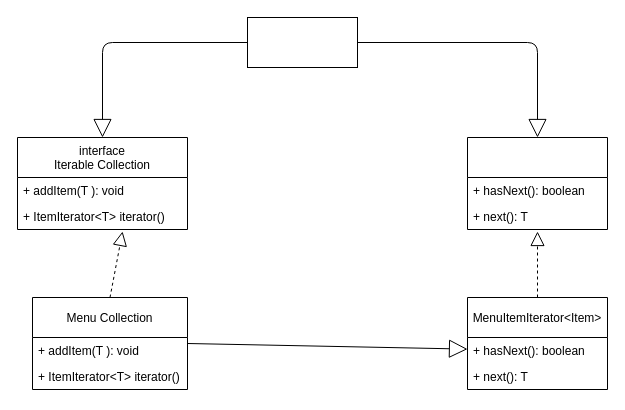
The diagram is 625 pixels wide and 410 high, and some of its shapes have lost their labels. Each missing label, with the box of its shape:
Client: (246, 16, 358, 68)
interface ItemIterator: (466, 136, 608, 230)
